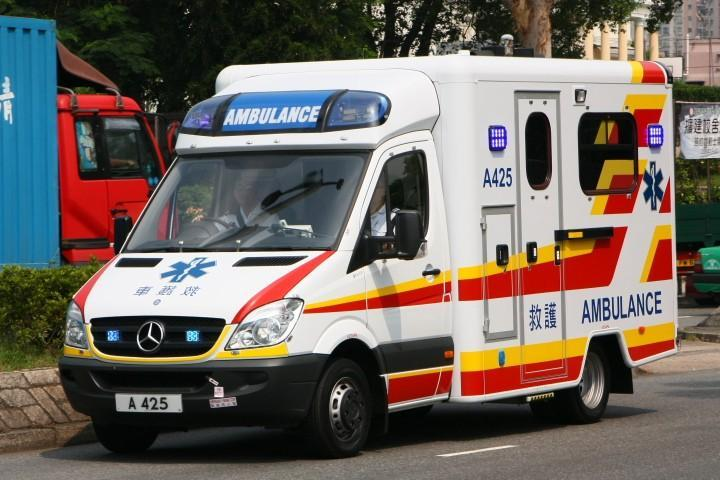Ambulance: (581, 287, 678, 335), (222, 99, 322, 135), (638, 157, 678, 211), (160, 257, 223, 285)
